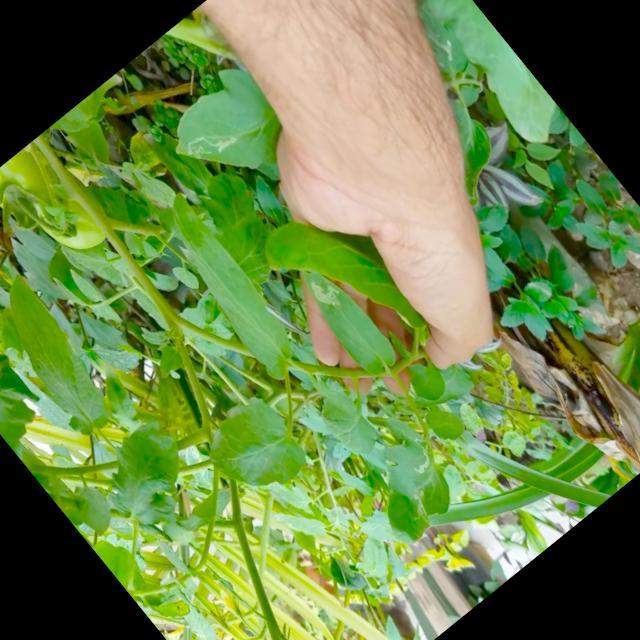Tomato healthy leaf: (252, 190, 432, 382), (143, 190, 314, 385), (0, 272, 130, 444), (83, 410, 215, 544), (192, 385, 318, 514), (299, 369, 388, 466), (400, 354, 452, 408), (420, 396, 470, 448)
Tomato target spot leaf: (152, 57, 312, 220), (331, 404, 475, 553), (288, 254, 405, 384)
